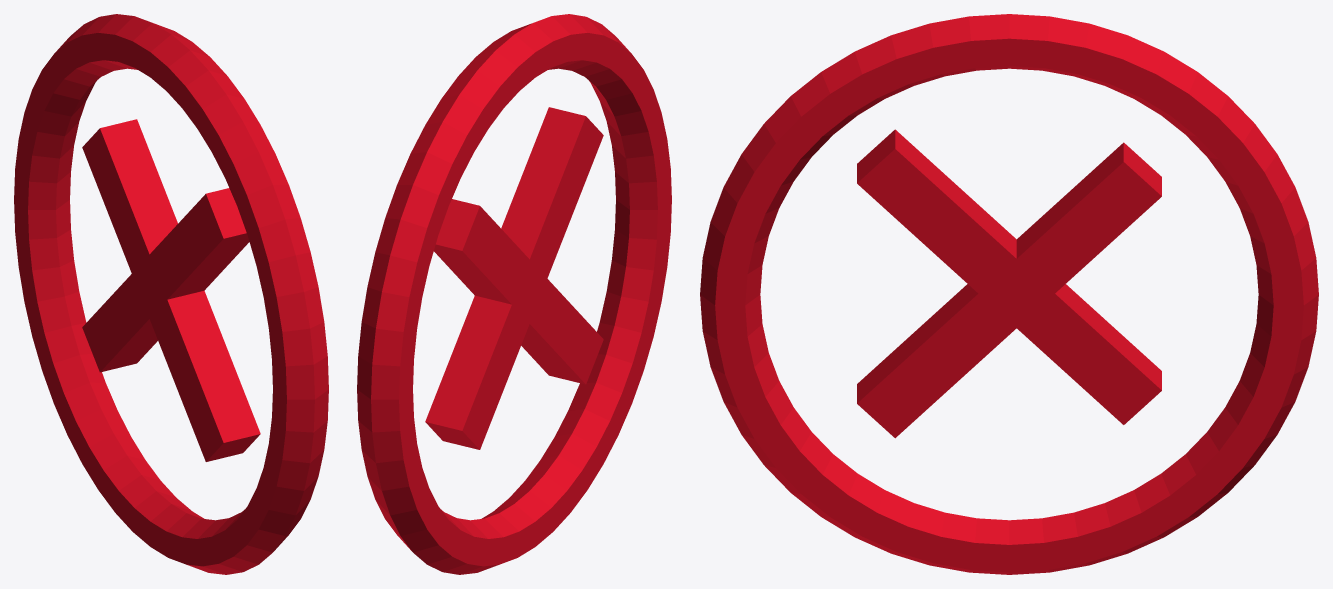
Rendered from btn_exit.fbx.
3 views of the same model, side by side, from view 1: azimuth 30°, elevation 25°; view 2: azimuth 150°, elevation 25°; view 3: azimuth 270°, elevation 25° (orthographic). The views are drawn at different scales.
Parts seen in each view (by area): view 1: Torus.000, Cubo.001; view 2: Torus.000, Cubo.001; view 3: Torus.000, Cubo.001.
Part boxes in pixels (x1=…): Torus.000: x1=14, y1=14, x2=328, y2=574; Cubo.001: x1=82, y1=119, x2=260, y2=461; Torus.000: x1=357, y1=14, x2=671, y2=574; Cubo.001: x1=425, y1=107, x2=603, y2=449; Torus.000: x1=700, y1=14, x2=1318, y2=574; Cubo.001: x1=857, y1=129, x2=1161, y2=438.
Bounding box in the file's own units: 27.71 × 328 × 328.
